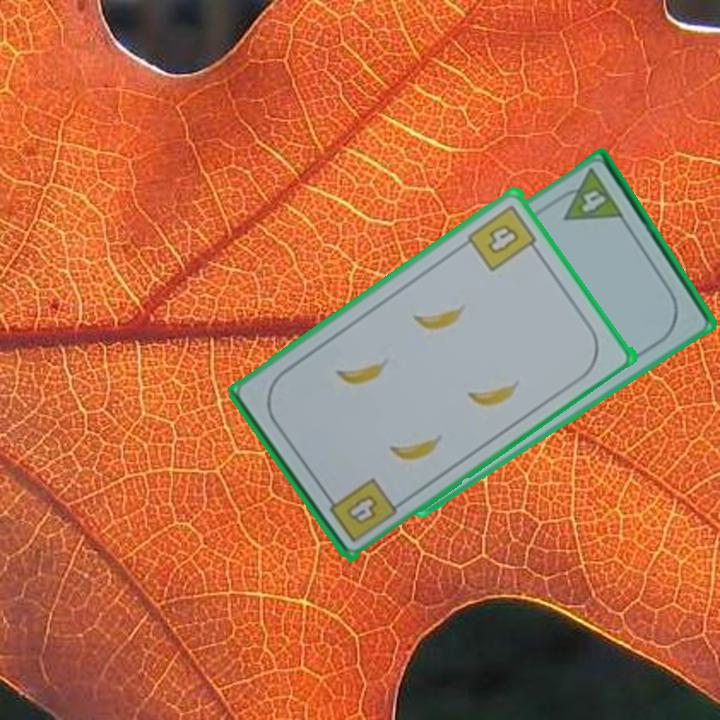4b: (464, 200, 544, 274), (321, 473, 400, 545)
4p: (550, 165, 626, 225)
